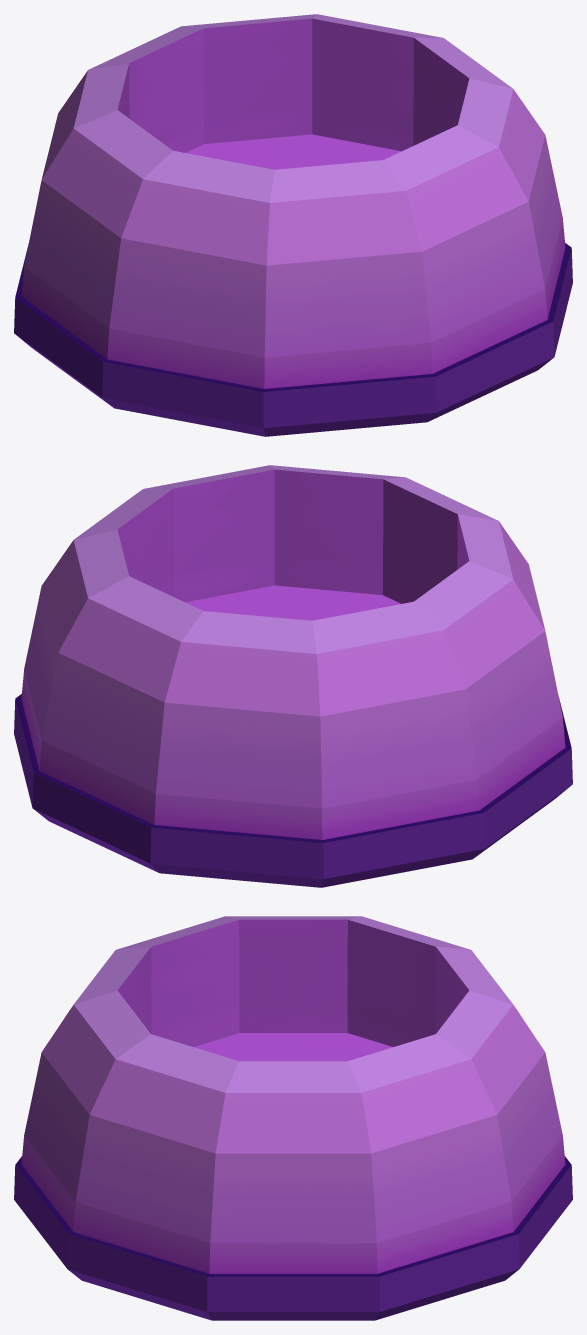
Rendered from bowl_of_food_for_cat.glb.
3 renders of one model, top to bottom at view 1: azimuth 30°, elevation 25°; view 2: azimuth 150°, elevation 25°; view 3: azimuth 270°, elevation 25°, orthographic. The views are drawn at different scales.
Visible parts, largest first — view 1: Food Bowl; view 2: Food Bowl; view 3: Food Bowl.
Boxes of the visible parts, x1=… form: Food Bowl: x1=14, y1=14, x2=572, y2=436; Food Bowl: x1=14, y1=465, x2=572, y2=887; Food Bowl: x1=14, y1=916, x2=572, y2=1320.
Size of the model in its own units: 2.25 by 1.05 by 2.37.
Materials: 1 (1 with a texture image).
